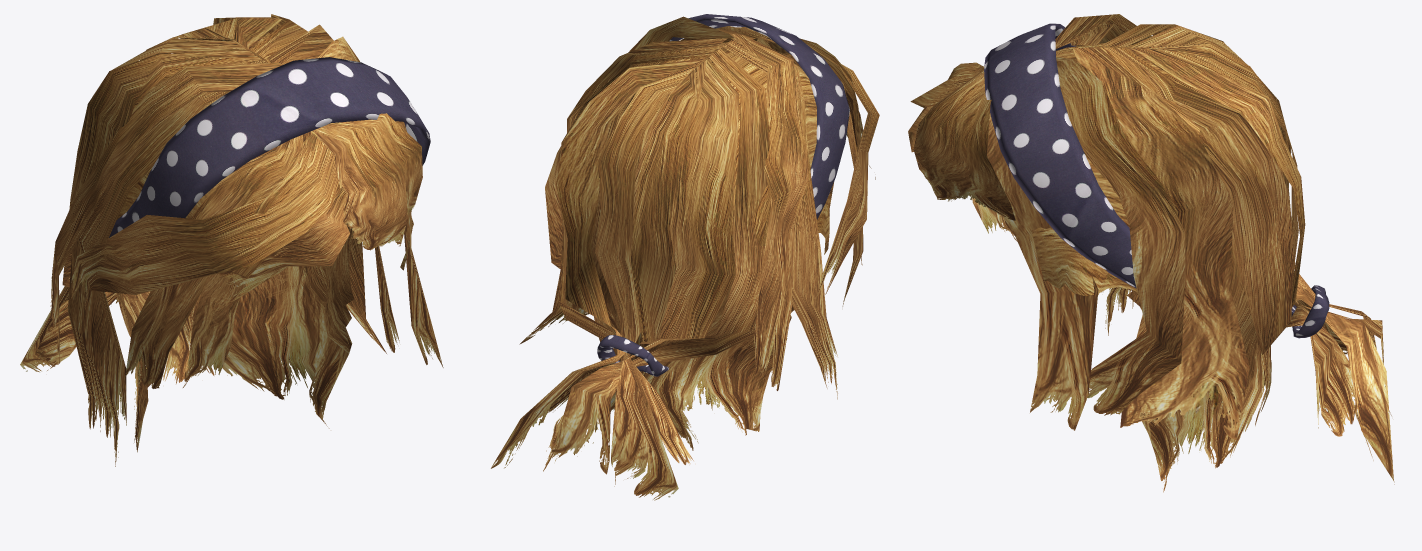
File: mh_sonntag78_blond_with_headband.glb
The picture shows the model from 3 angles, left to right: view 1: azimuth 30°, elevation 25°; view 2: azimuth 150°, elevation 25°; view 3: azimuth 270°, elevation 25°; orthographic projection. The views are drawn at different scales.
Parts seen in each view (by area): view 1: mh_sonntag78_blond_with_headband; view 2: mh_sonntag78_blond_with_headband; view 3: mh_sonntag78_blond_with_headband.
Boxes of the visible parts, x1=… form: mh_sonntag78_blond_with_headband: x1=20, y1=14, x2=443, y2=466; mh_sonntag78_blond_with_headband: x1=491, y1=14, x2=879, y2=500; mh_sonntag78_blond_with_headband: x1=908, y1=14, x2=1394, y2=492.
Bounding box in the file's own units: 0.2573 × 0.3114 × 0.3091.
1 material, 1 textured.
